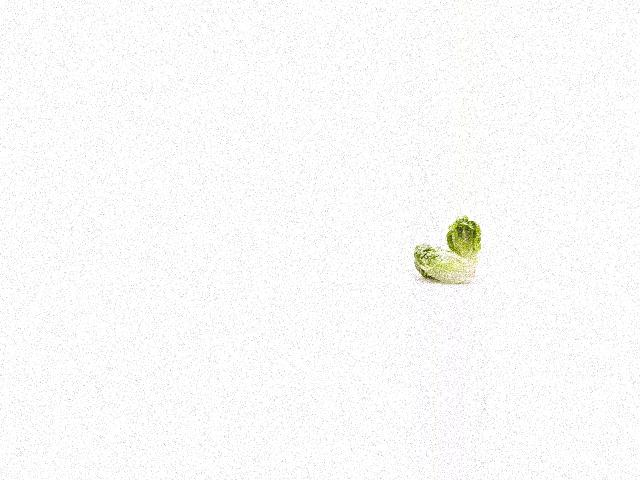lettuce: (409, 239, 479, 285)
